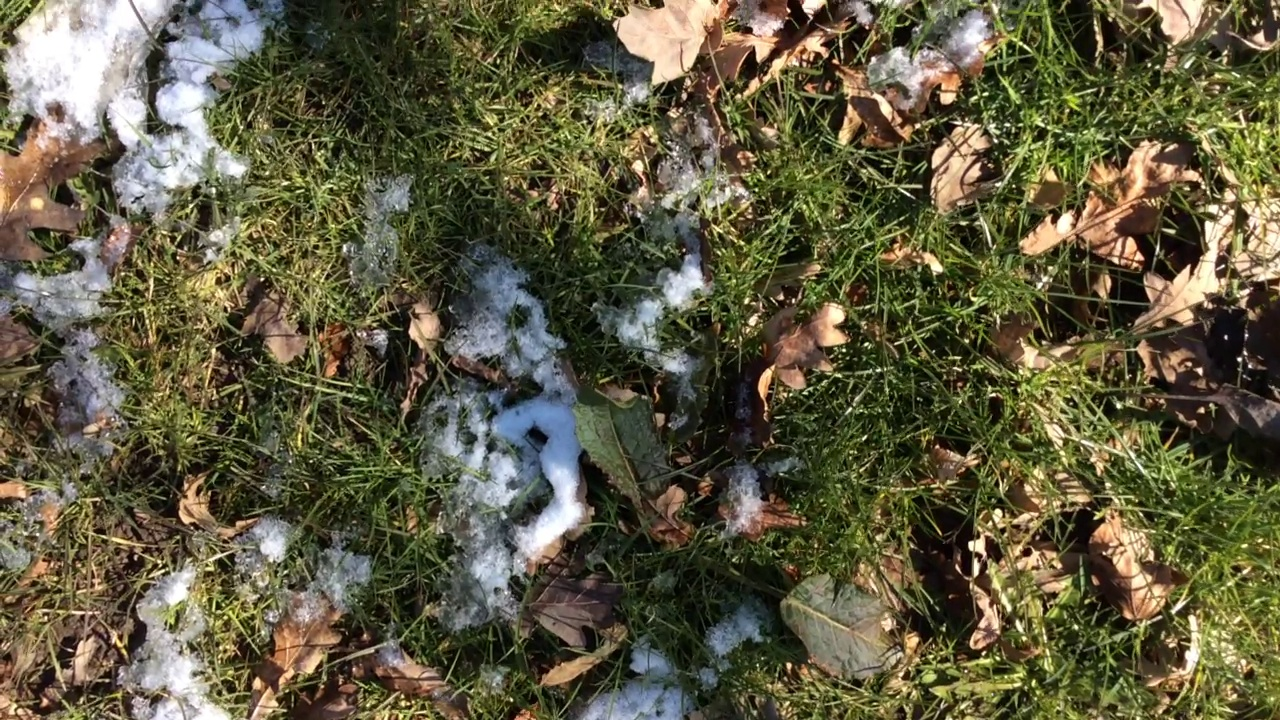root: (659, 540, 767, 594)
rumex: (567, 378, 918, 689)
